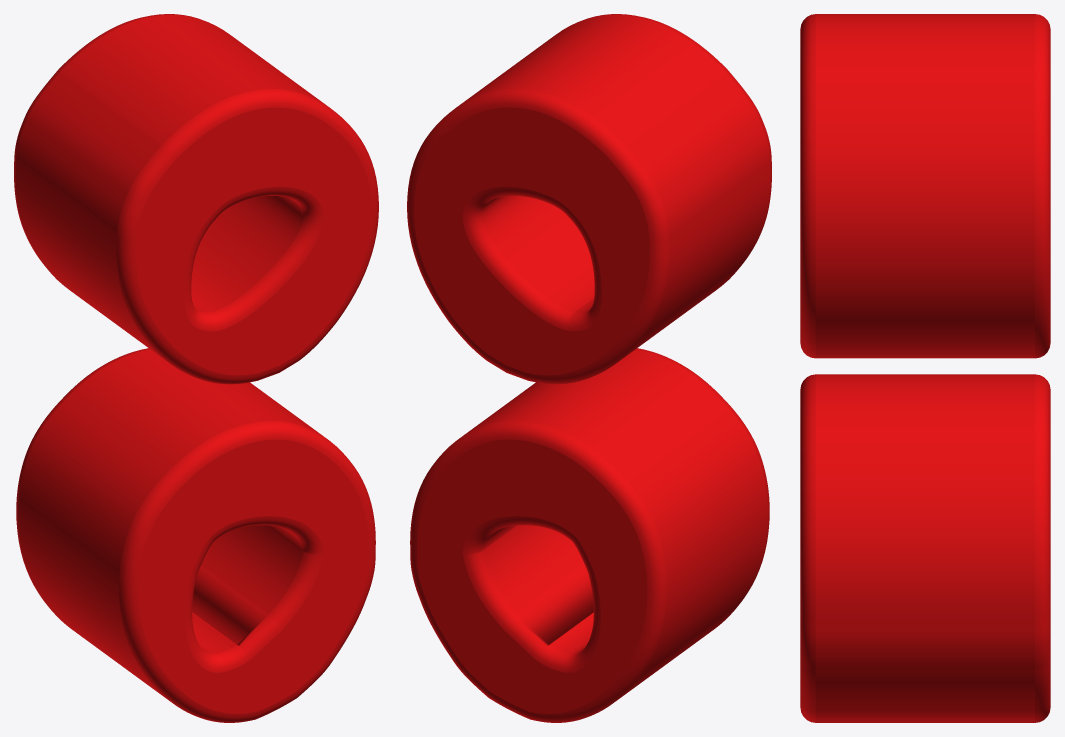
Rendered from bn_alphabet_38.fbx.
The picture shows the model from 3 angles, left to right: view 1: azimuth 30°, elevation 25°; view 2: azimuth 150°, elevation 25°; view 3: azimuth 270°, elevation 25°; orthographic projection. The views are drawn at different scales.
Parts seen in each view (by area): view 1: Text; view 2: Text; view 3: Text.
Part boxes in pixels (x1,y1,x2,y2): Text: (14, 14, 378, 722); Text: (407, 14, 771, 722); Text: (800, 14, 1050, 722).
Size of the model in its own units: 110 by 252 by 83.98.
